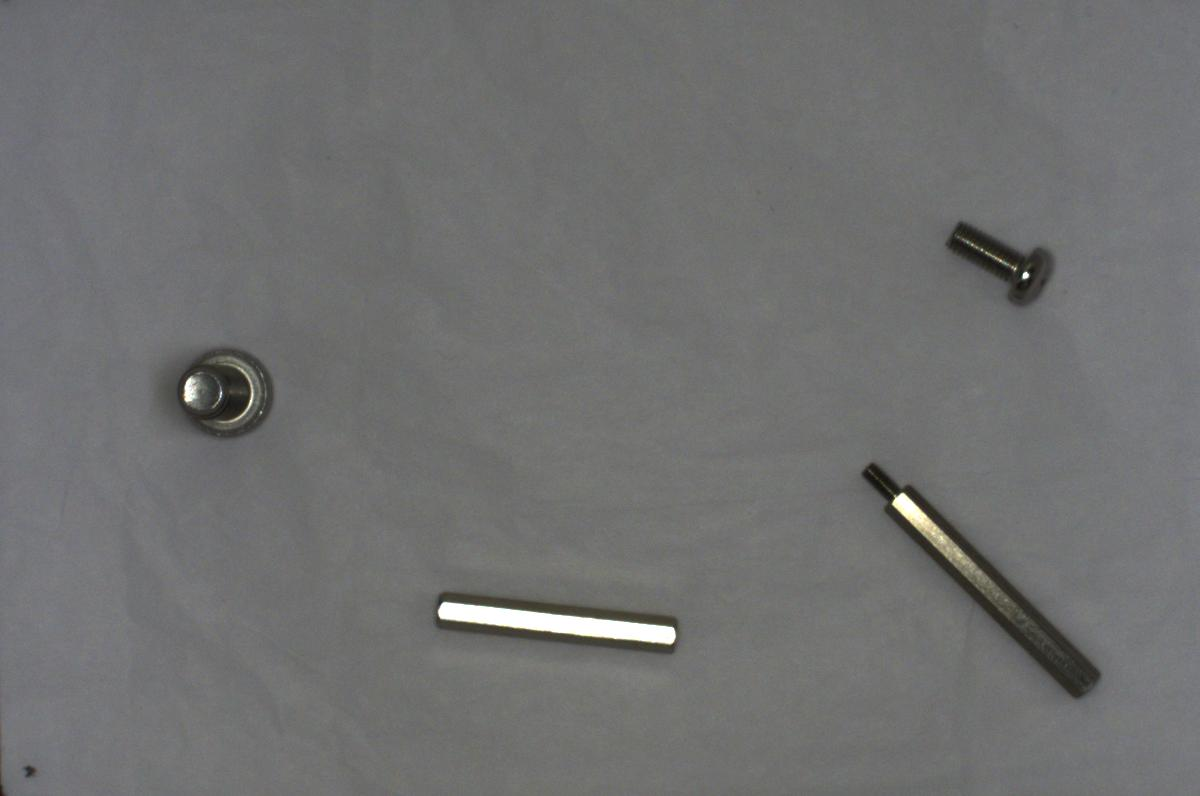Double hexagonal column: (427, 582, 686, 666)
Hexagon screw: (162, 342, 272, 440)
Hexagonal steel column: (850, 458, 1098, 705)
Round head screw: (939, 220, 1062, 306)
